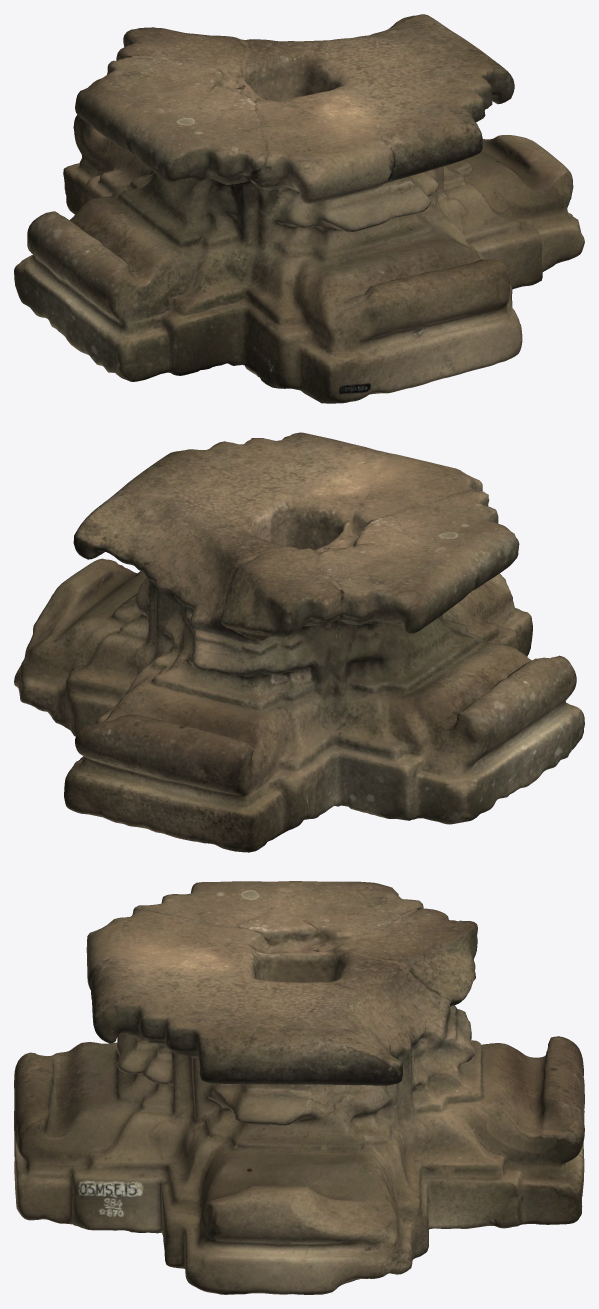
File: 01_MysonSanctuaryD2_TrangTriChanTru_final.glb
3 views of the same model, one above another, from view 1: azimuth 30°, elevation 25°; view 2: azimuth 150°, elevation 25°; view 3: azimuth 270°, elevation 25° (orthographic). The views are drawn at different scales.
Bounding box in the file's own units: 0.6517 × 0.2866 × 0.6592.
1 material, 1 textured.
